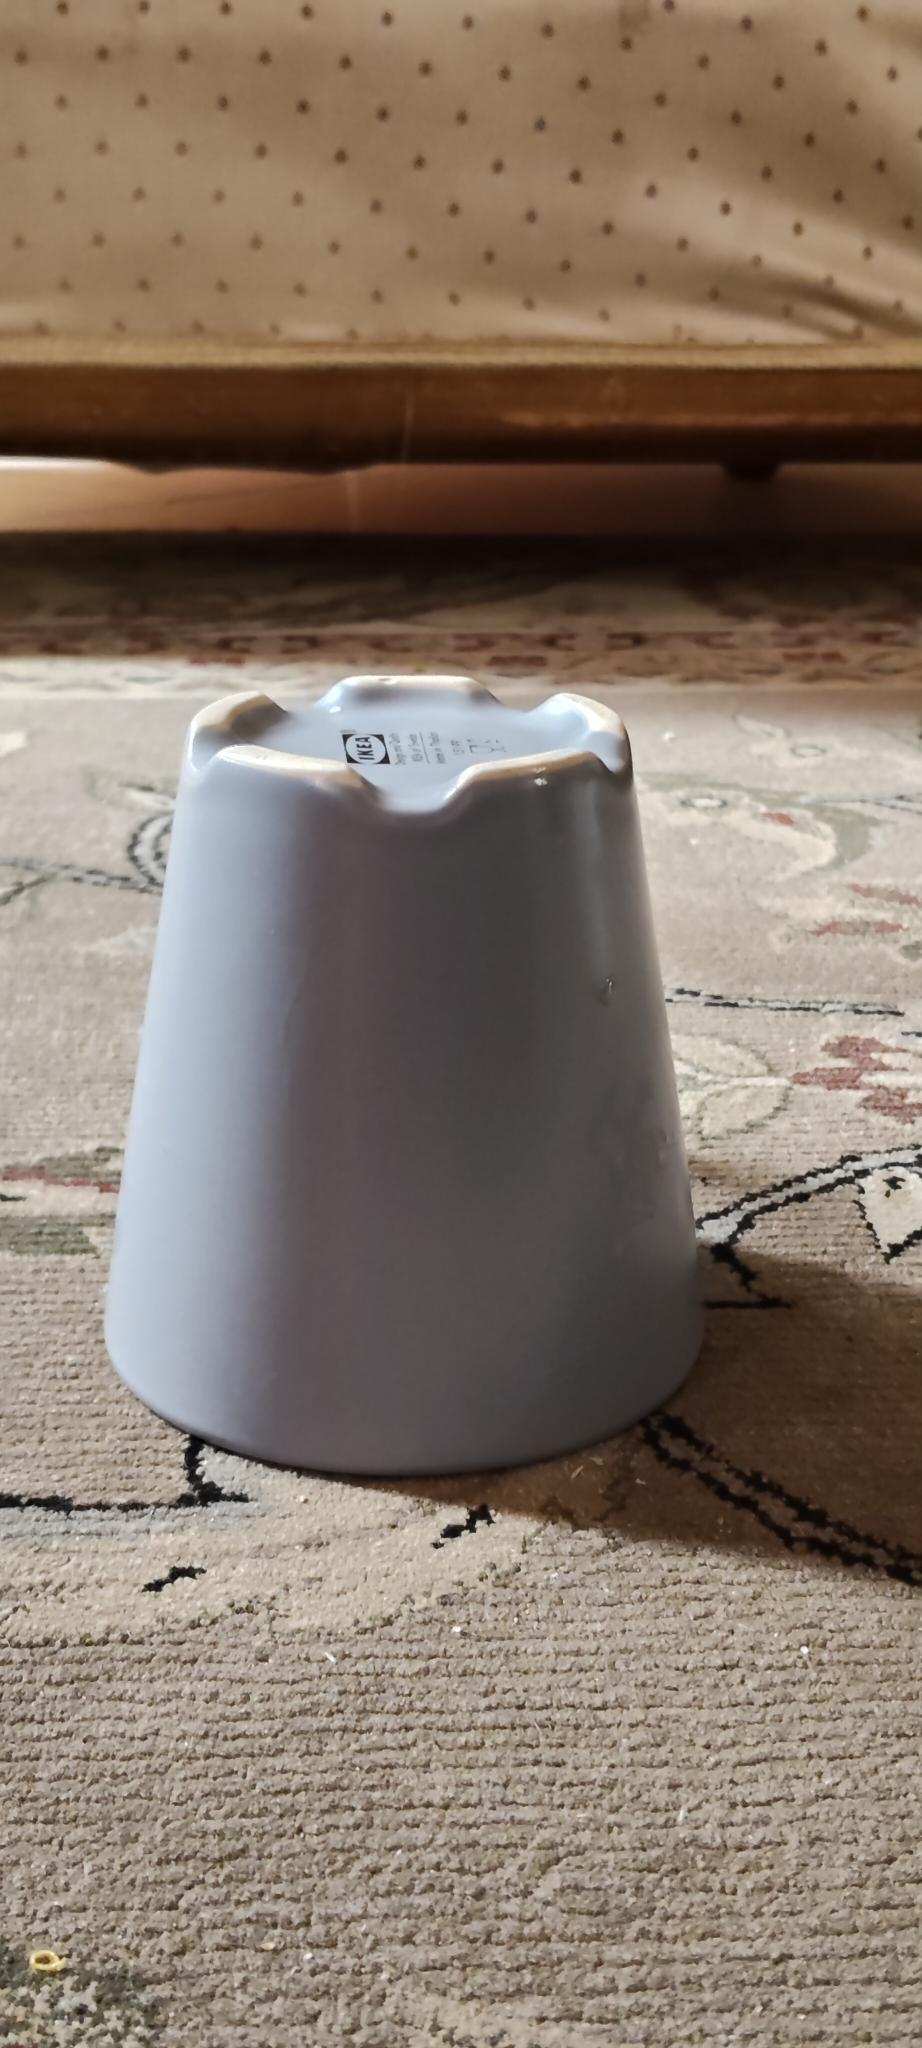Mug: (100, 672, 715, 1467)
